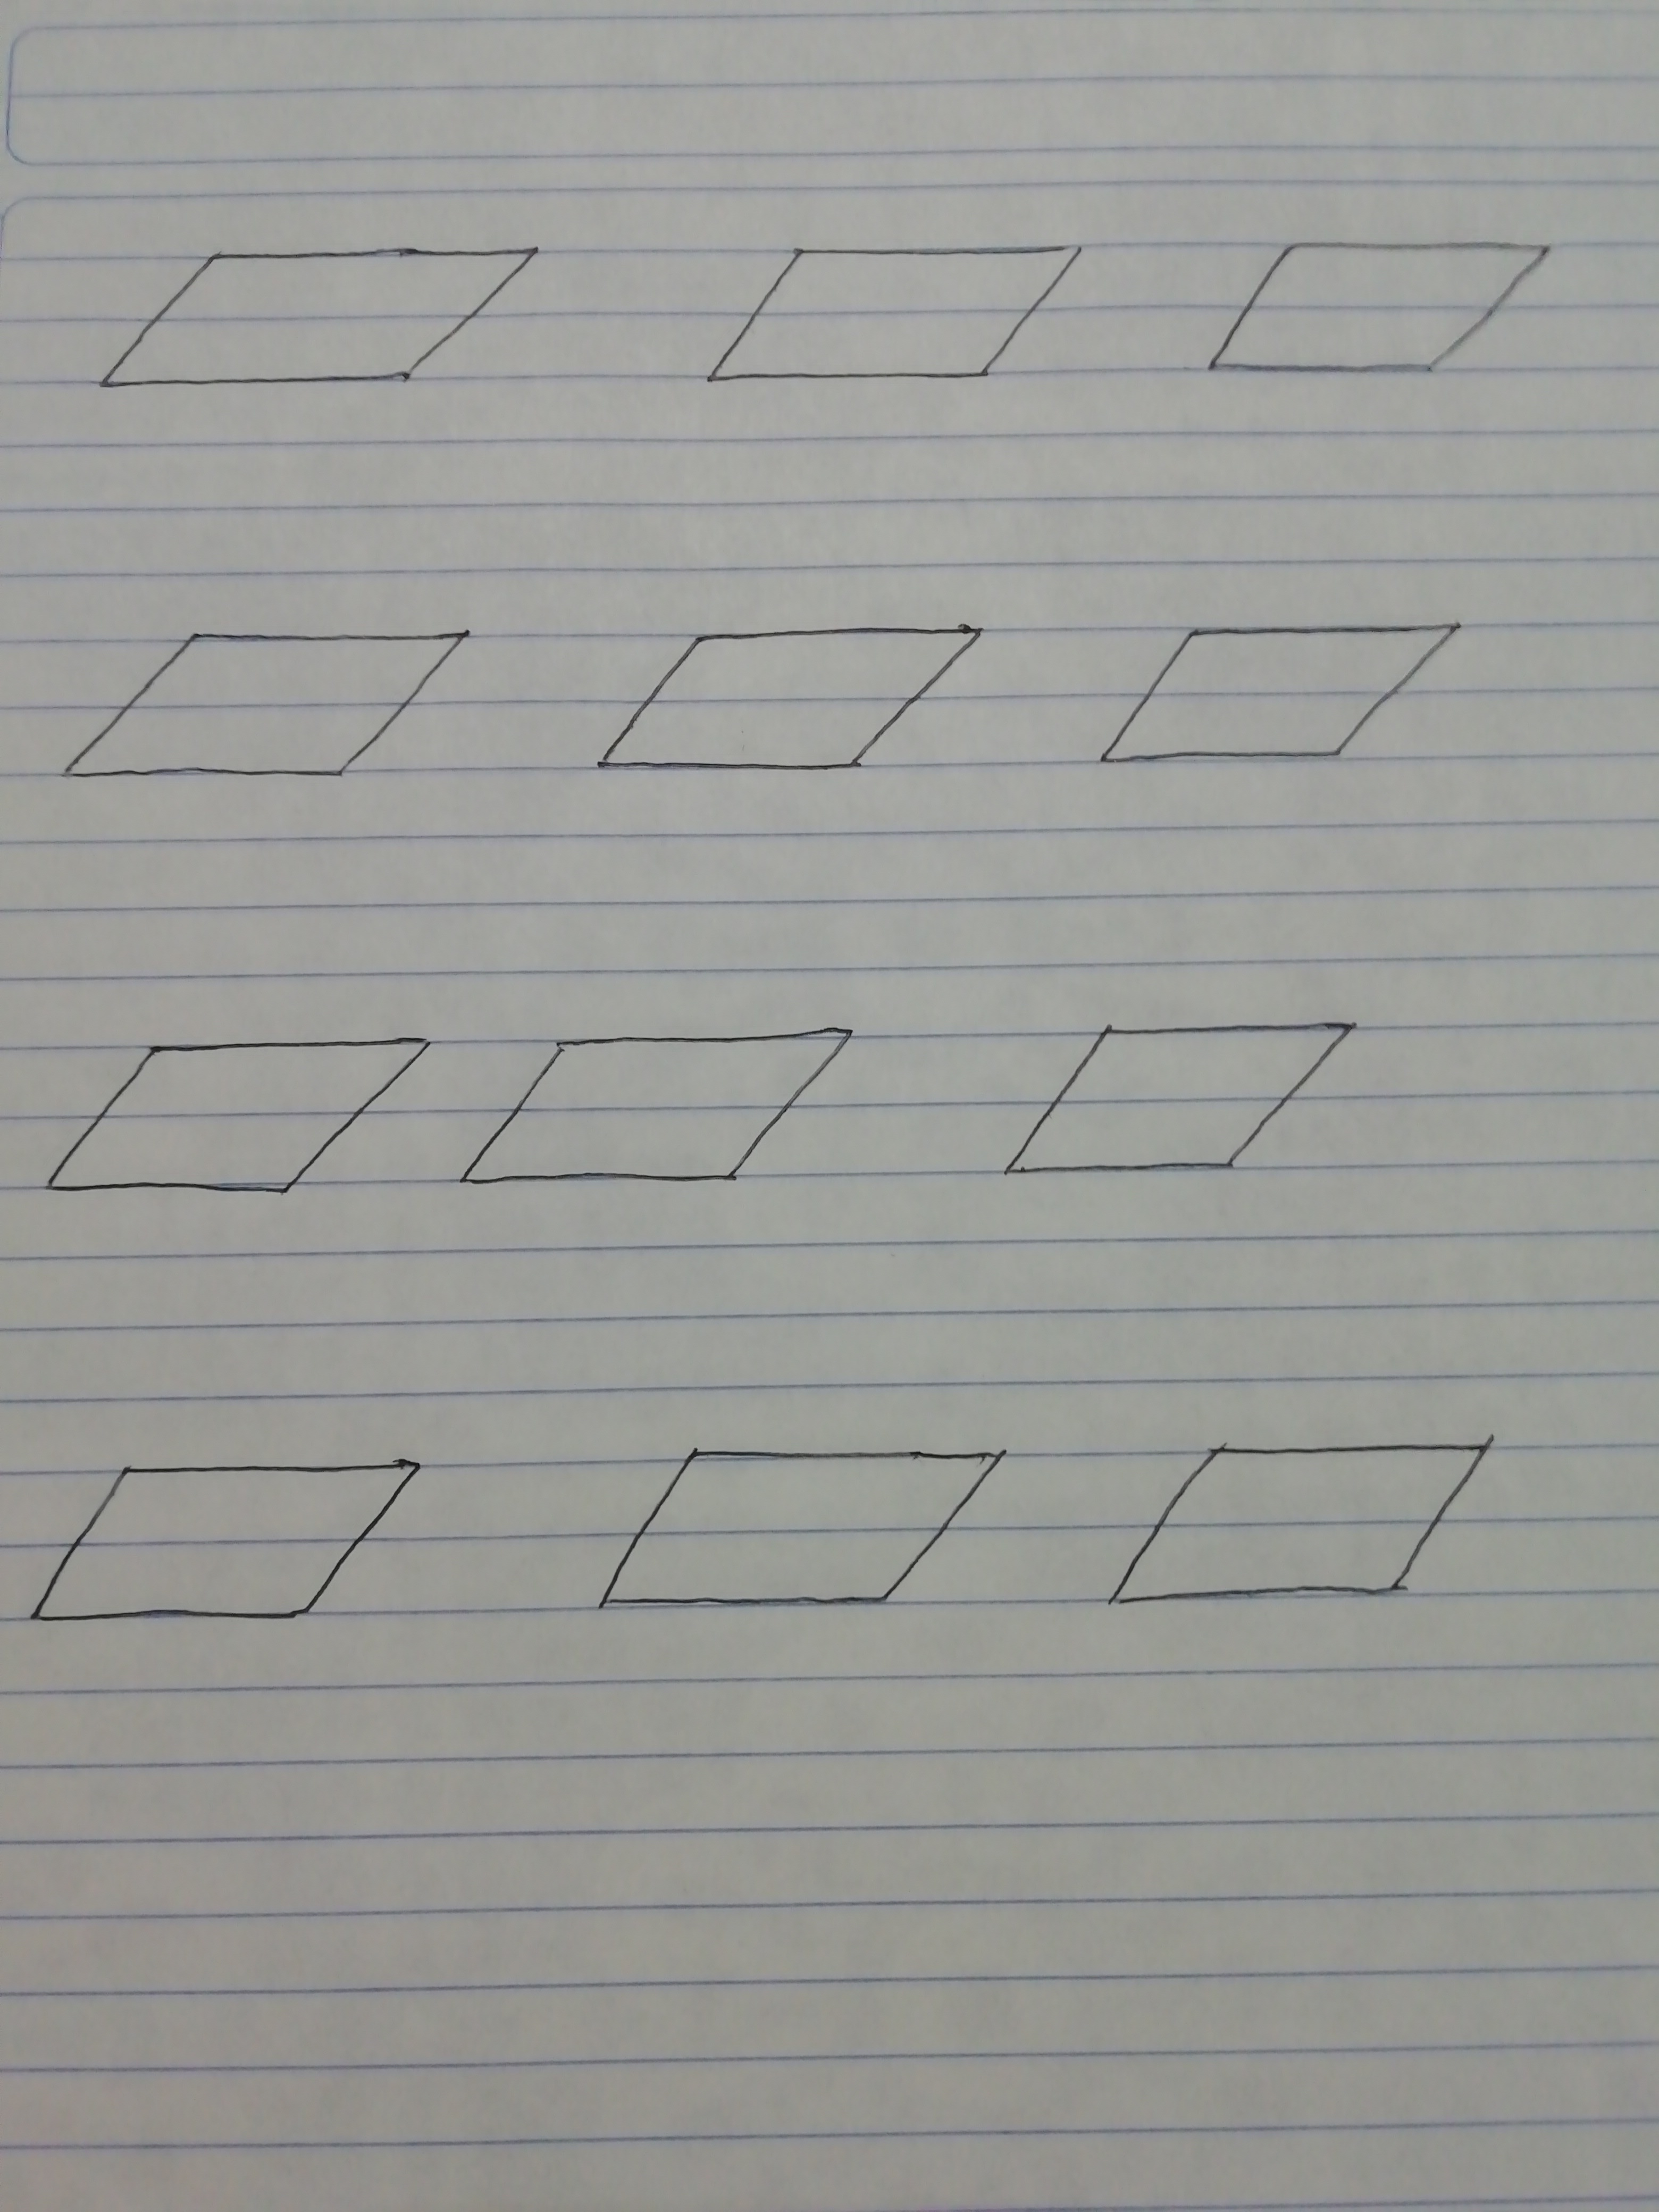scan: (544, 1404, 1040, 1695), (12, 589, 509, 850), (1075, 1386, 1537, 1662), (5, 1421, 462, 1688), (561, 589, 1033, 826), (969, 982, 1405, 1233), (70, 212, 565, 432), (1178, 195, 1579, 465), (671, 212, 1101, 460), (1065, 582, 1493, 826), (444, 996, 877, 1230), (19, 1000, 444, 1237)
